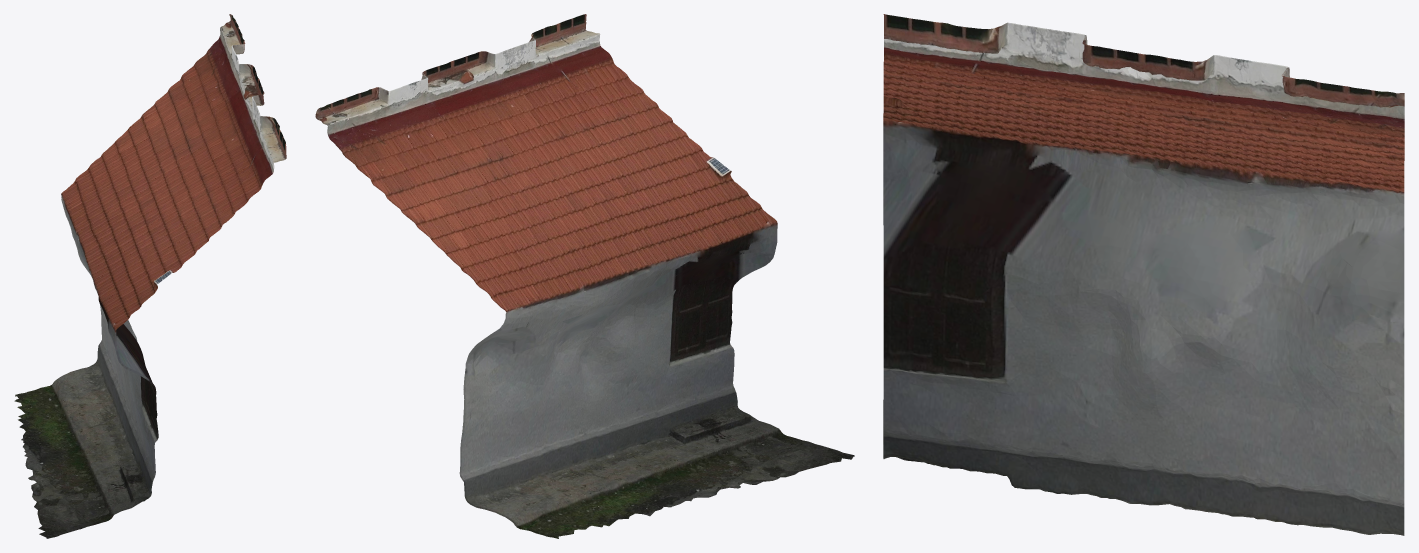
The picture shows the model from 3 angles, left to right: view 1: azimuth 30°, elevation 25°; view 2: azimuth 150°, elevation 25°; view 3: azimuth 270°, elevation 25°; orthographic projection. The views are drawn at different scales.
Parts seen in each view (by area): view 1: node_62; view 2: node_62; view 3: node_62.
Part boxes in pixels (x1,y1,x2,y2): node_62: (14, 14, 286, 538); node_62: (315, 14, 854, 538); node_62: (883, 14, 1404, 535).
Bounding box in the file's own units: 7.07 × 6.78 × 5.39.
1 material, 1 textured.
